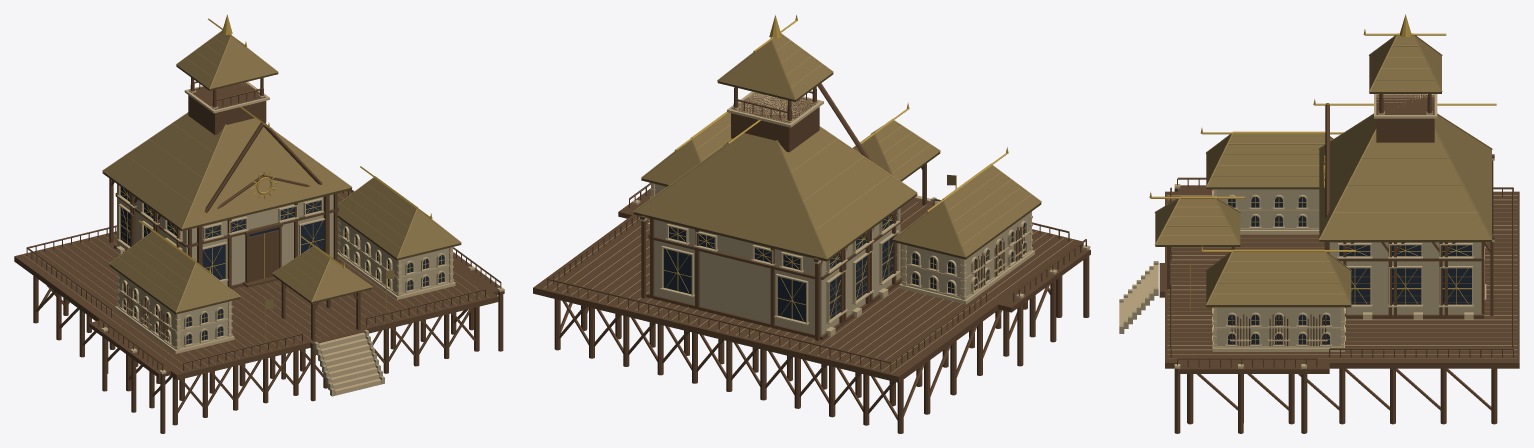
The model's file is reed-throne.glb.
3 renders of one model, left to right at view 1: azimuth 30°, elevation 25°; view 2: azimuth 150°, elevation 25°; view 3: azimuth 270°, elevation 25°, orthographic. The views are drawn at different scales.
Visible parts, largest first — view 1: piling-field, reed-hall-roof, landing-wings, landing-wings-roof, reed-hall, reed-crown; view 2: piling-field, reed-hall-roof, reed-hall, landing-wings-roof, landing-wings, reed-crown; view 3: reed-hall-roof, piling-field, landing-wings-roof, landing-wings, reed-hall, reed-crown.
Part boxes in pixels (left/top/right/bottom): piling-field: left=14, top=190, right=498, bottom=425; reed-hall-roof: left=102, top=14, right=352, bottom=230; landing-wings: left=89, top=218, right=504, bottom=433; landing-wings-roof: left=109, top=166, right=461, bottom=314; reed-hall: left=109, top=121, right=340, bottom=289; reed-crown: left=123, top=172, right=394, bottom=341; piling-field: left=533, top=198, right=1083, bottom=433; reed-hall-roof: left=633, top=15, right=917, bottom=261; reed-hall: left=640, top=83, right=902, bottom=340; landing-wings-roof: left=641, top=102, right=1041, bottom=259; landing-wings: left=618, top=163, right=1090, bottom=366; reed-crown: left=947, top=174, right=1025, bottom=290; reed-hall-roof: left=1313, top=14, right=1496, bottom=242; piling-field: left=1165, top=187, right=1519, bottom=424; landing-wings-roof: left=1149, top=128, right=1355, bottom=307; landing-wings: left=1119, top=177, right=1345, bottom=433; reed-hall: left=1324, top=103, right=1494, bottom=319; reed-crown: left=1189, top=155, right=1327, bottom=346.
Bounding box in the file's own units: 34.4 × 28.63 × 31.59.
